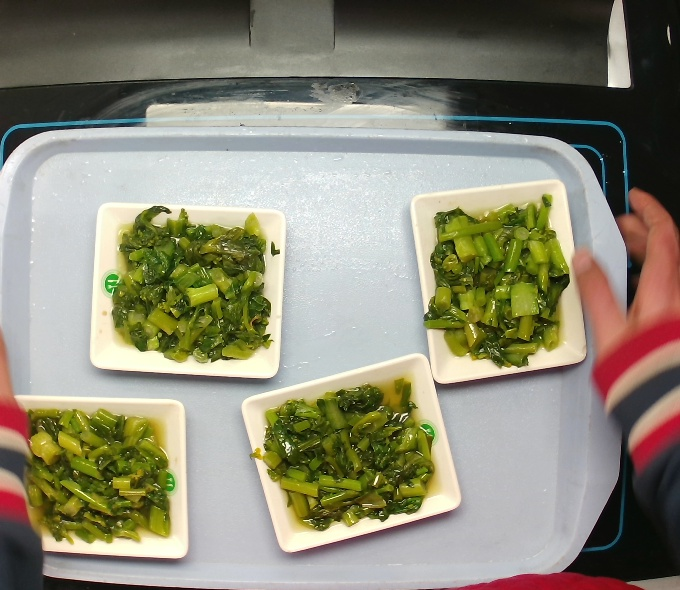wcq-YouCaiHua: (104, 196, 278, 371), (415, 196, 584, 364), (261, 373, 434, 537), (8, 398, 180, 544)
